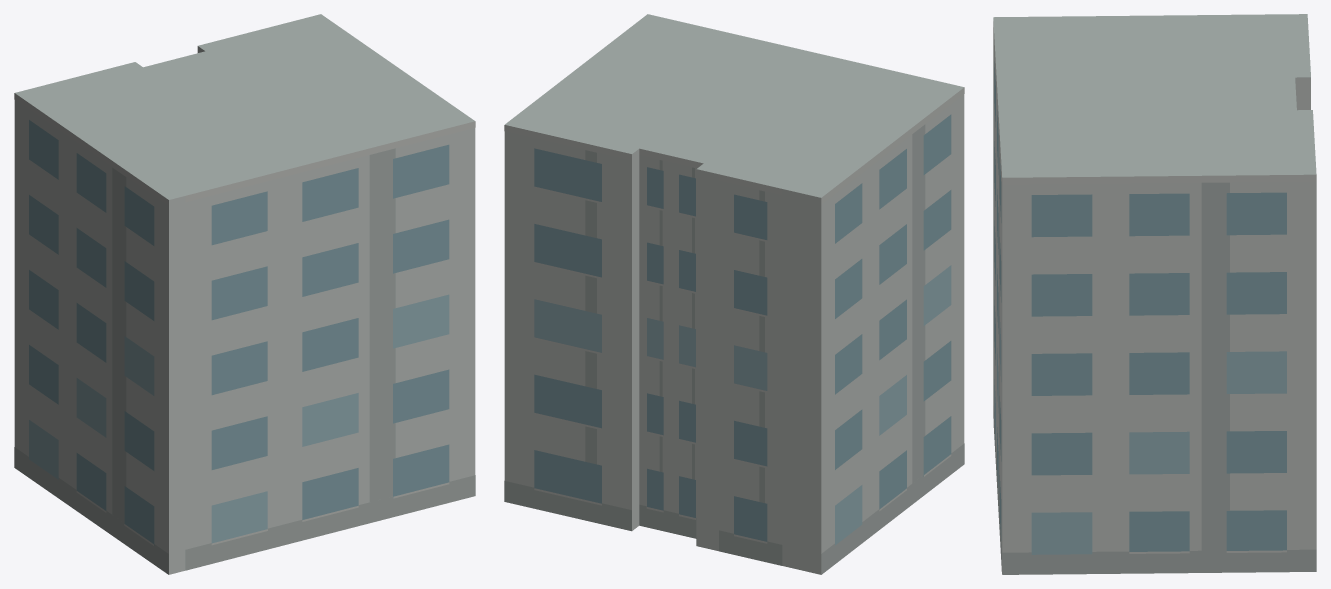
Rendered from survey-upis-32706170.glb.
The picture shows the model from 3 angles, left to right: view 1: azimuth 30°, elevation 25°; view 2: azimuth 150°, elevation 25°; view 3: azimuth 270°, elevation 25°; orthographic projection. The views are drawn at different scales.
Visible parts, largest first — view 1: survey-upis-32706170.tmp; view 2: survey-upis-32706170.tmp; view 3: survey-upis-32706170.tmp.
Part boxes in pixels (box(x1,y1,x2,y2)): survey-upis-32706170.tmp: box(14, 14, 475, 574); survey-upis-32706170.tmp: box(504, 14, 964, 574); survey-upis-32706170.tmp: box(993, 14, 1316, 574).
Bounding box in the file's own units: 12.25 × 13.84 × 10.22.
